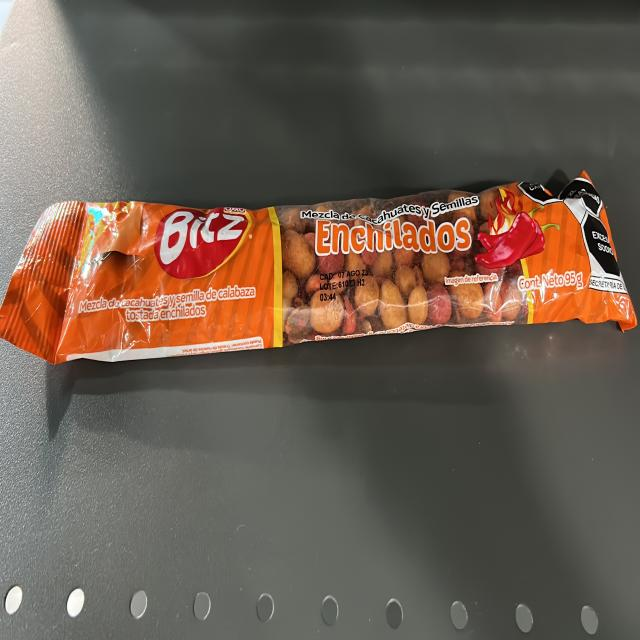bitzEnchilado95: (32, 199, 611, 337)
